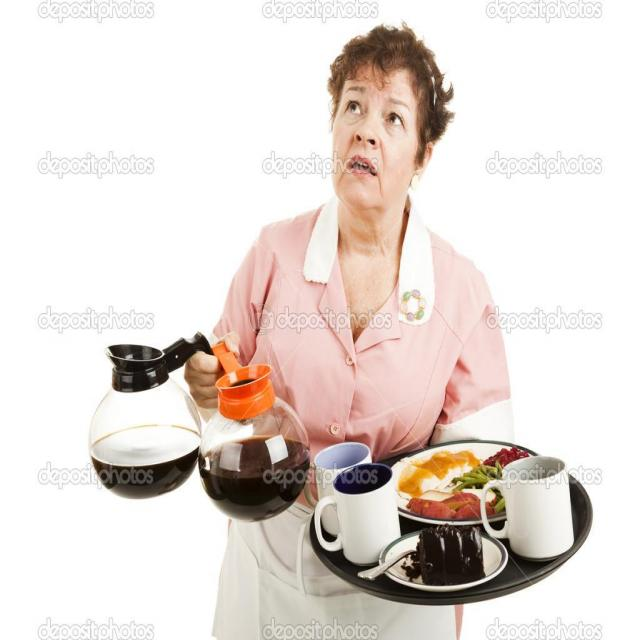nomask: (332, 61, 420, 206)
